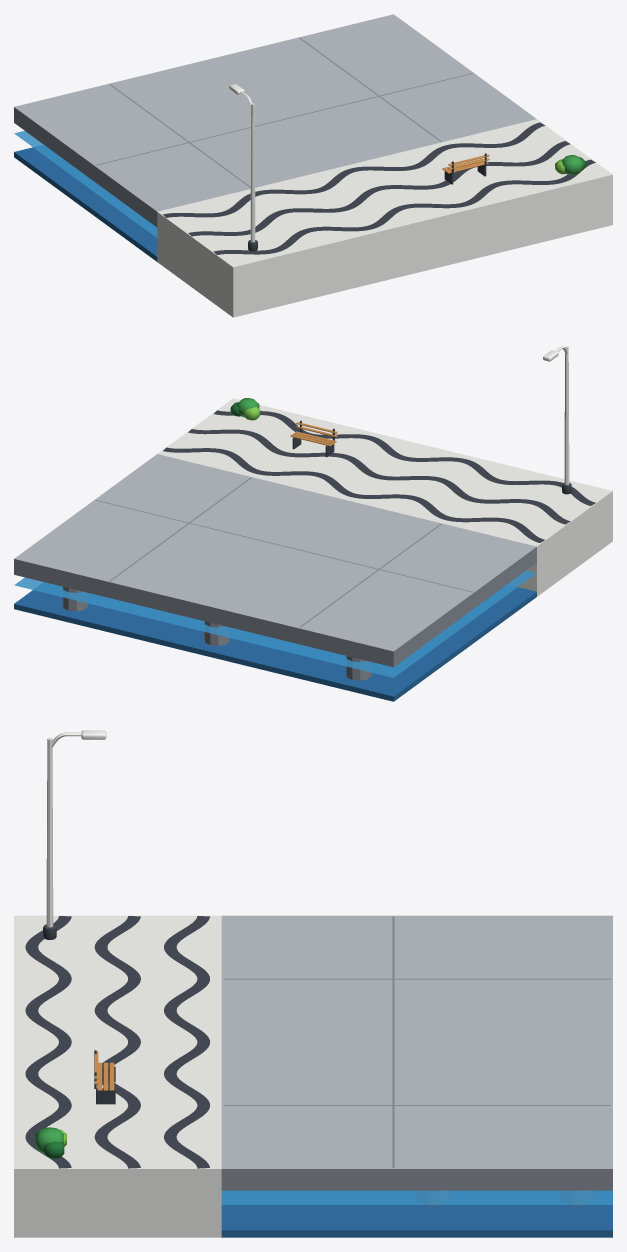
File: pier_cruzeiro_acesso.glb
The picture shows the model from 3 angles, top to bottom: view 1: azimuth 30°, elevation 25°; view 2: azimuth 150°, elevation 25°; view 3: azimuth 270°, elevation 25°; orthographic projection. The views are drawn at different scales.
Parts seen in each view (by area): view 1: pier_cruzeiro_acesso; view 2: pier_cruzeiro_acesso; view 3: pier_cruzeiro_acesso.
Boxes of the visible parts, <box> form: pier_cruzeiro_acesso: <box>14,14,612,317</box>; pier_cruzeiro_acesso: <box>14,346,612,701</box>; pier_cruzeiro_acesso: <box>14,730,612,1237</box>.
Bounding box in the file's own units: 15 × 7.58 × 15.
Materials: 3 (1 with a texture image).
